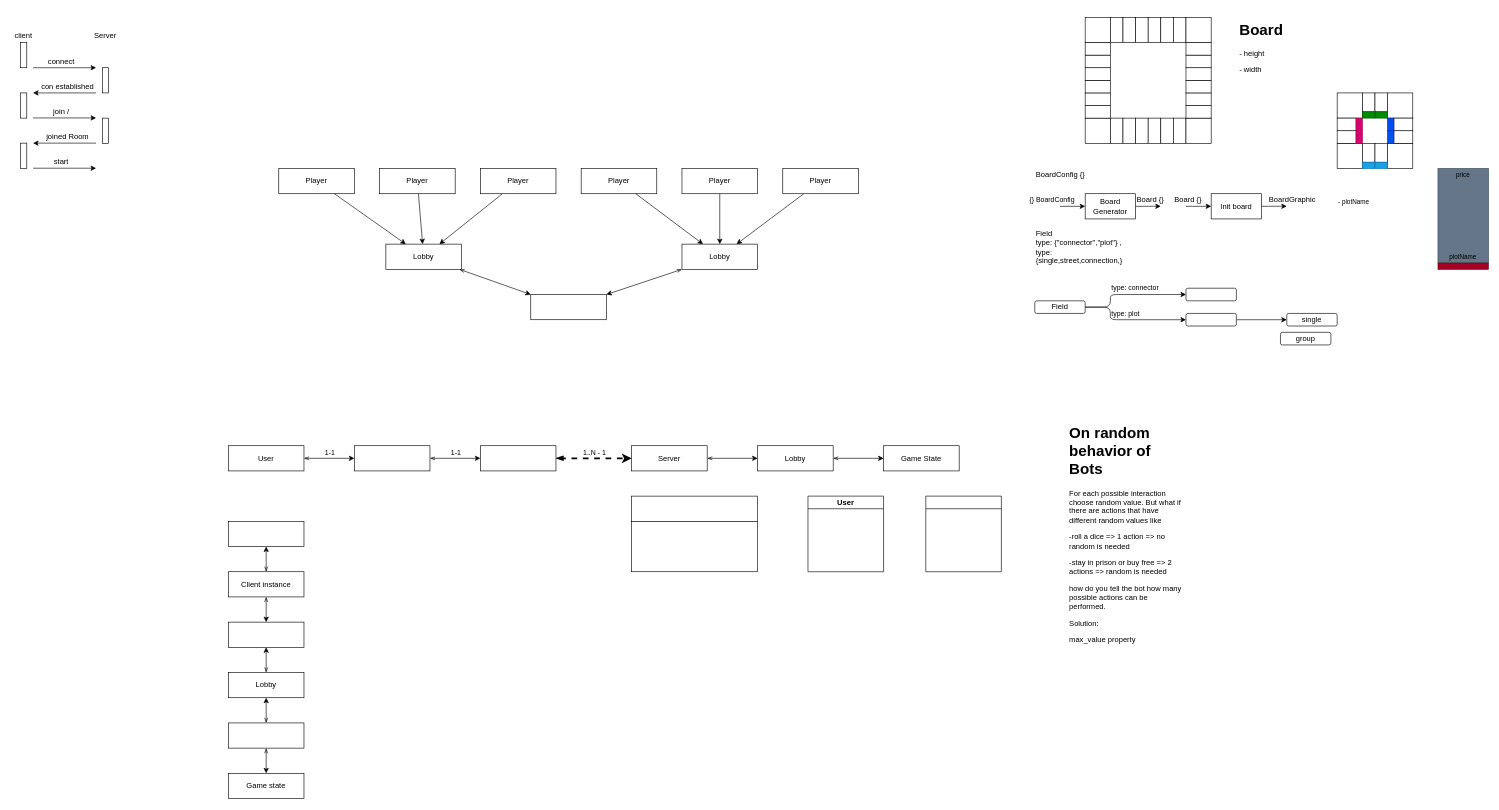
The diagram is 1499 pixels wide and 810 high, and some of its shapes have lost their labels. Each missing label, with the centre of its shape:
- game_state: - users: user[]: point 694,546
Game: point 266,735
Game (Client): point 518,458
Game (Instance): point 568,307
GUI: point 266,634
GUI / Interface: point 392,458
has connector: point 1210,294
plotType: point 1210,319
Rooms: point 694,508
Socket (Communication): point 266,534
